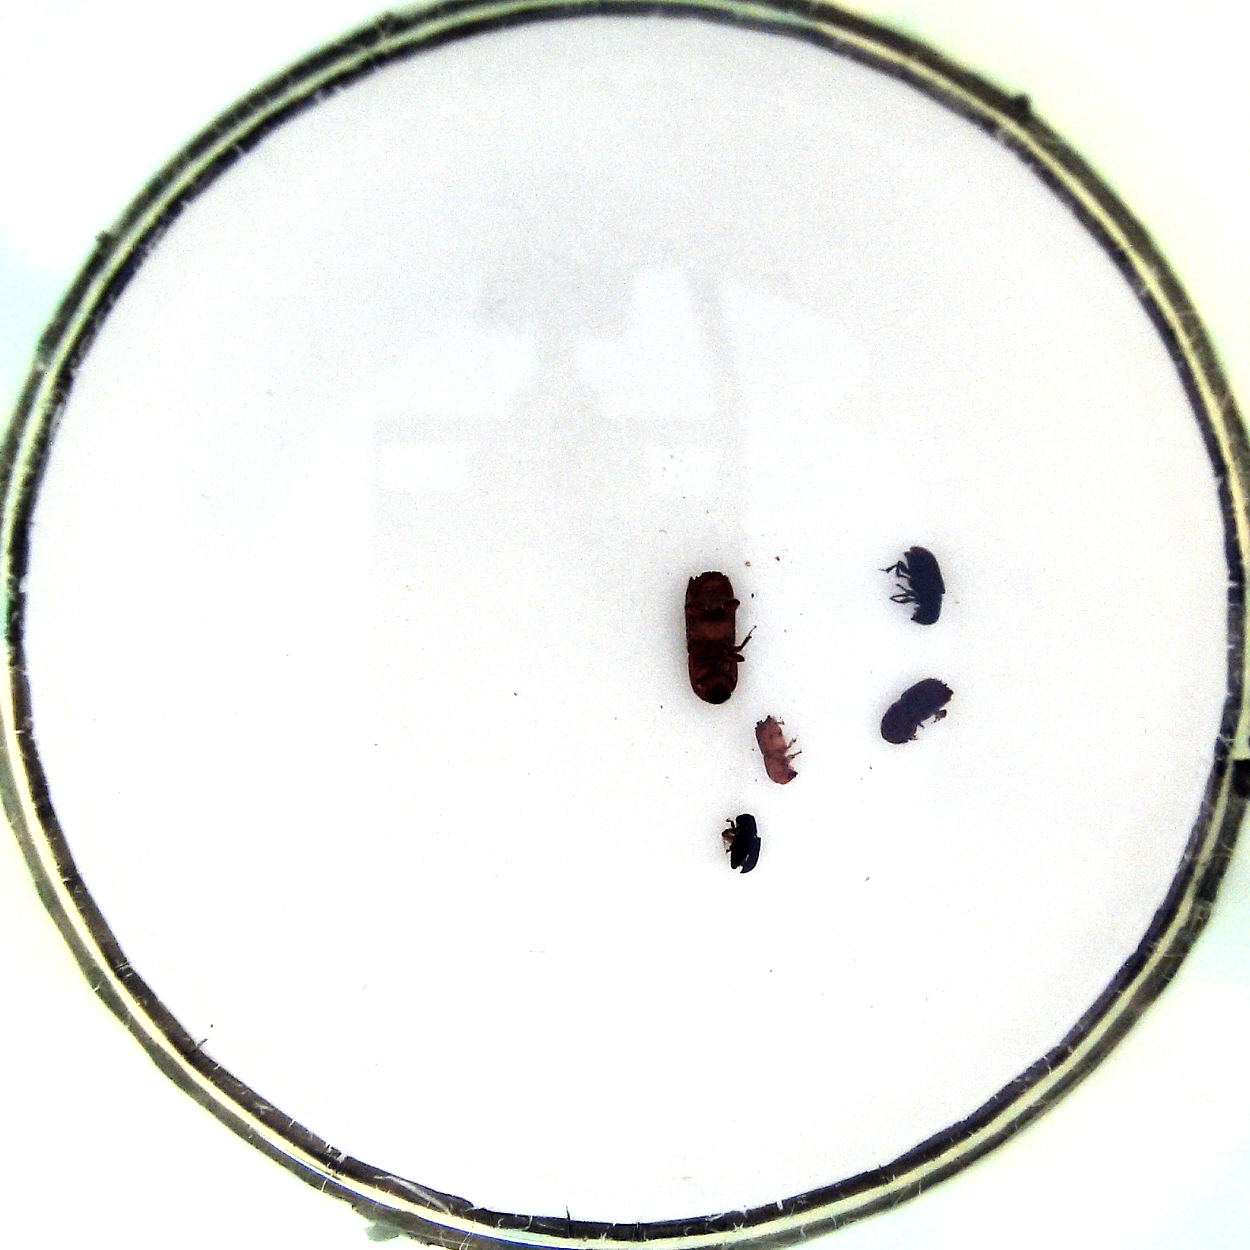Boerner: (677, 569, 761, 707)
Linnaeus: (876, 672, 951, 747)
acuminatus: (751, 711, 804, 785)
armandi: (881, 543, 949, 633)
coleoptera: (715, 805, 769, 880)
